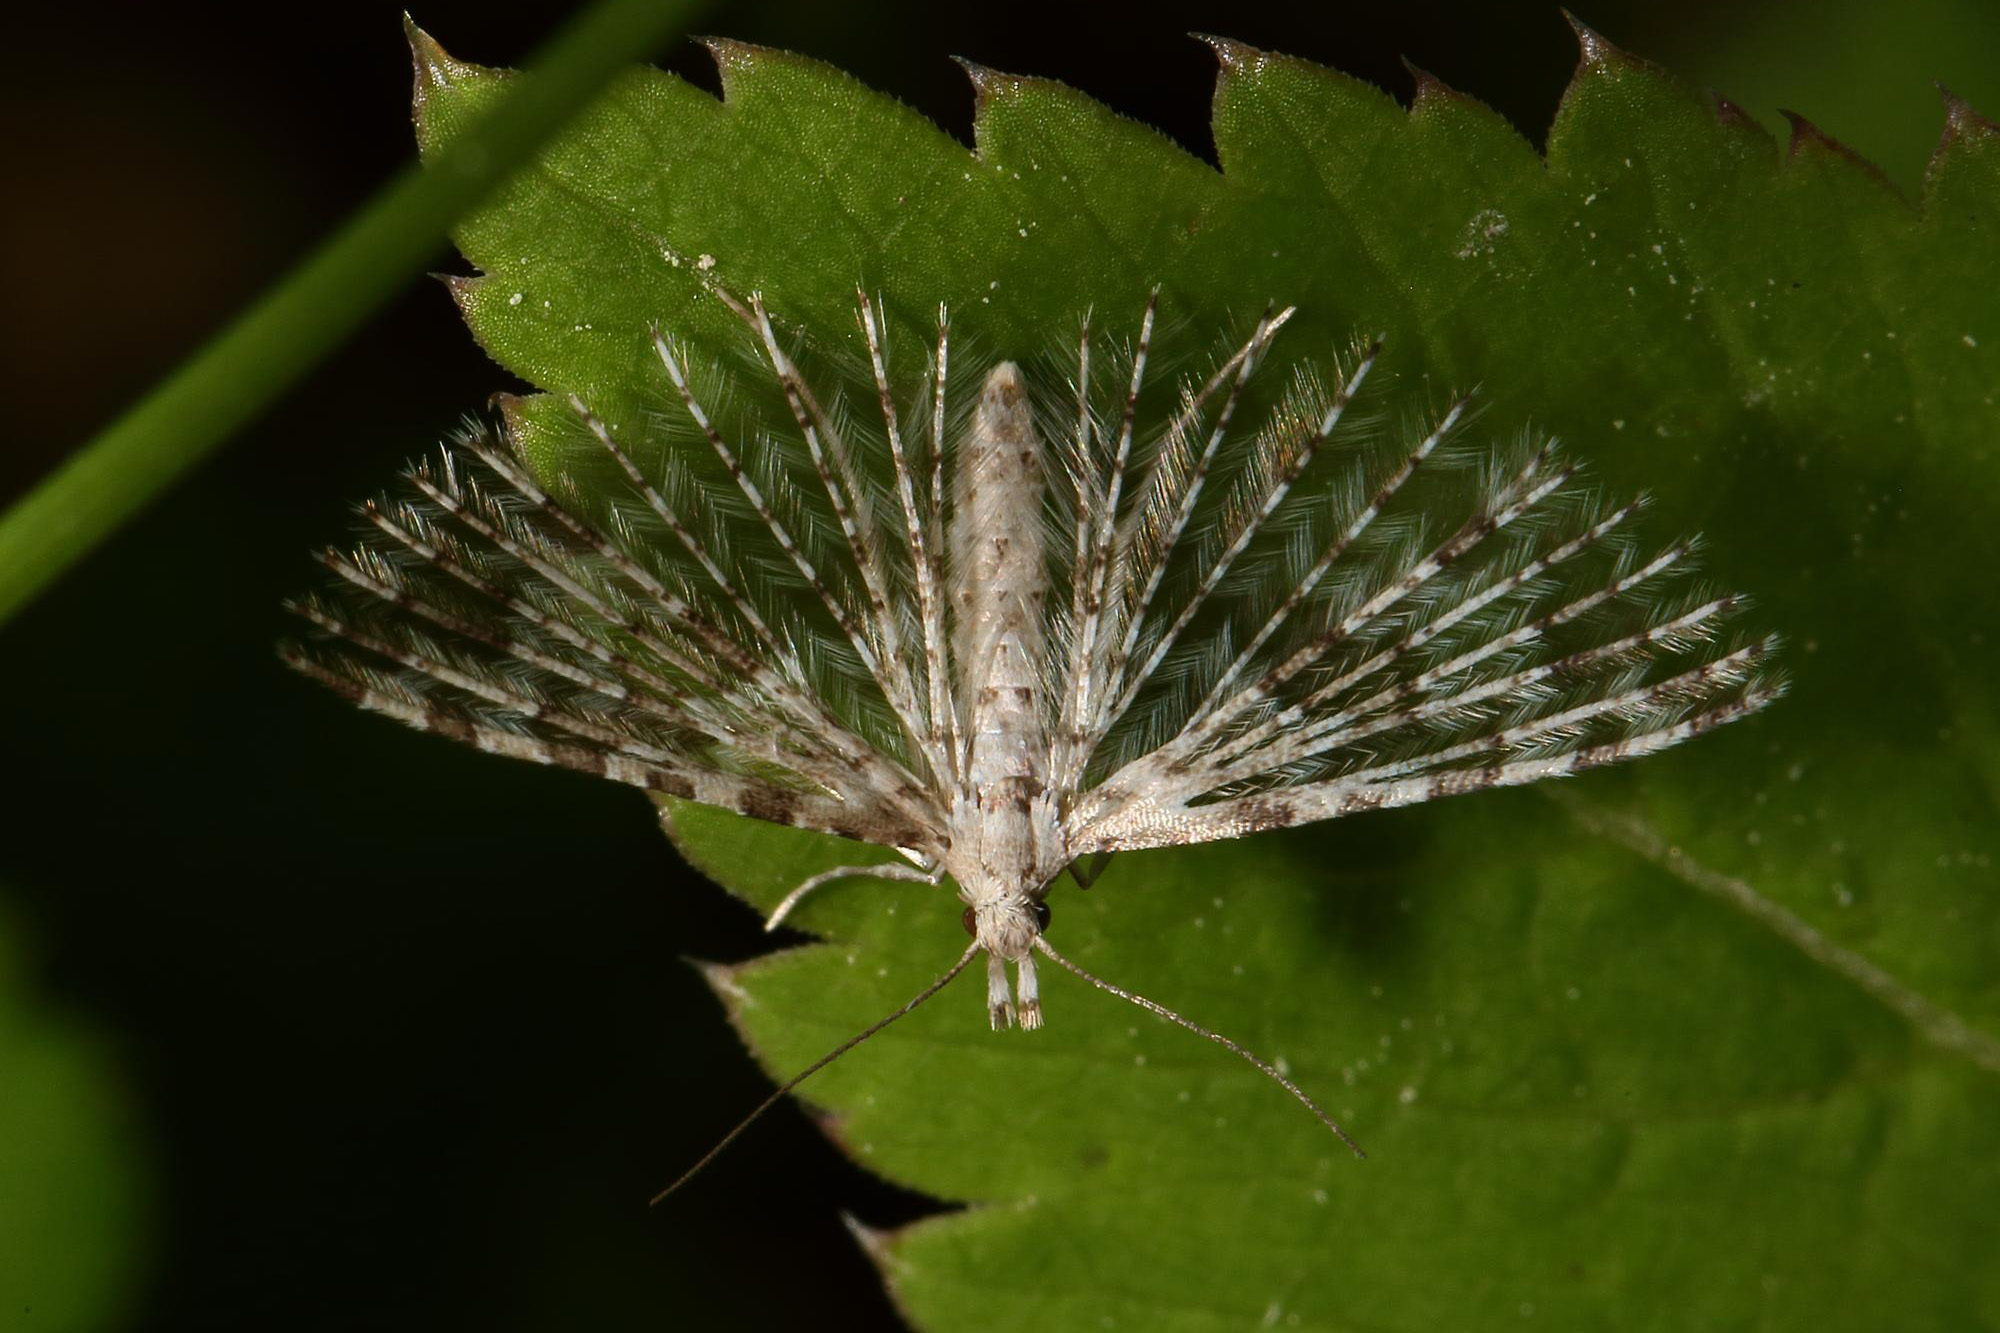Alucitidae: (254, 257, 1816, 1207)
moth: (257, 259, 1819, 1210)
